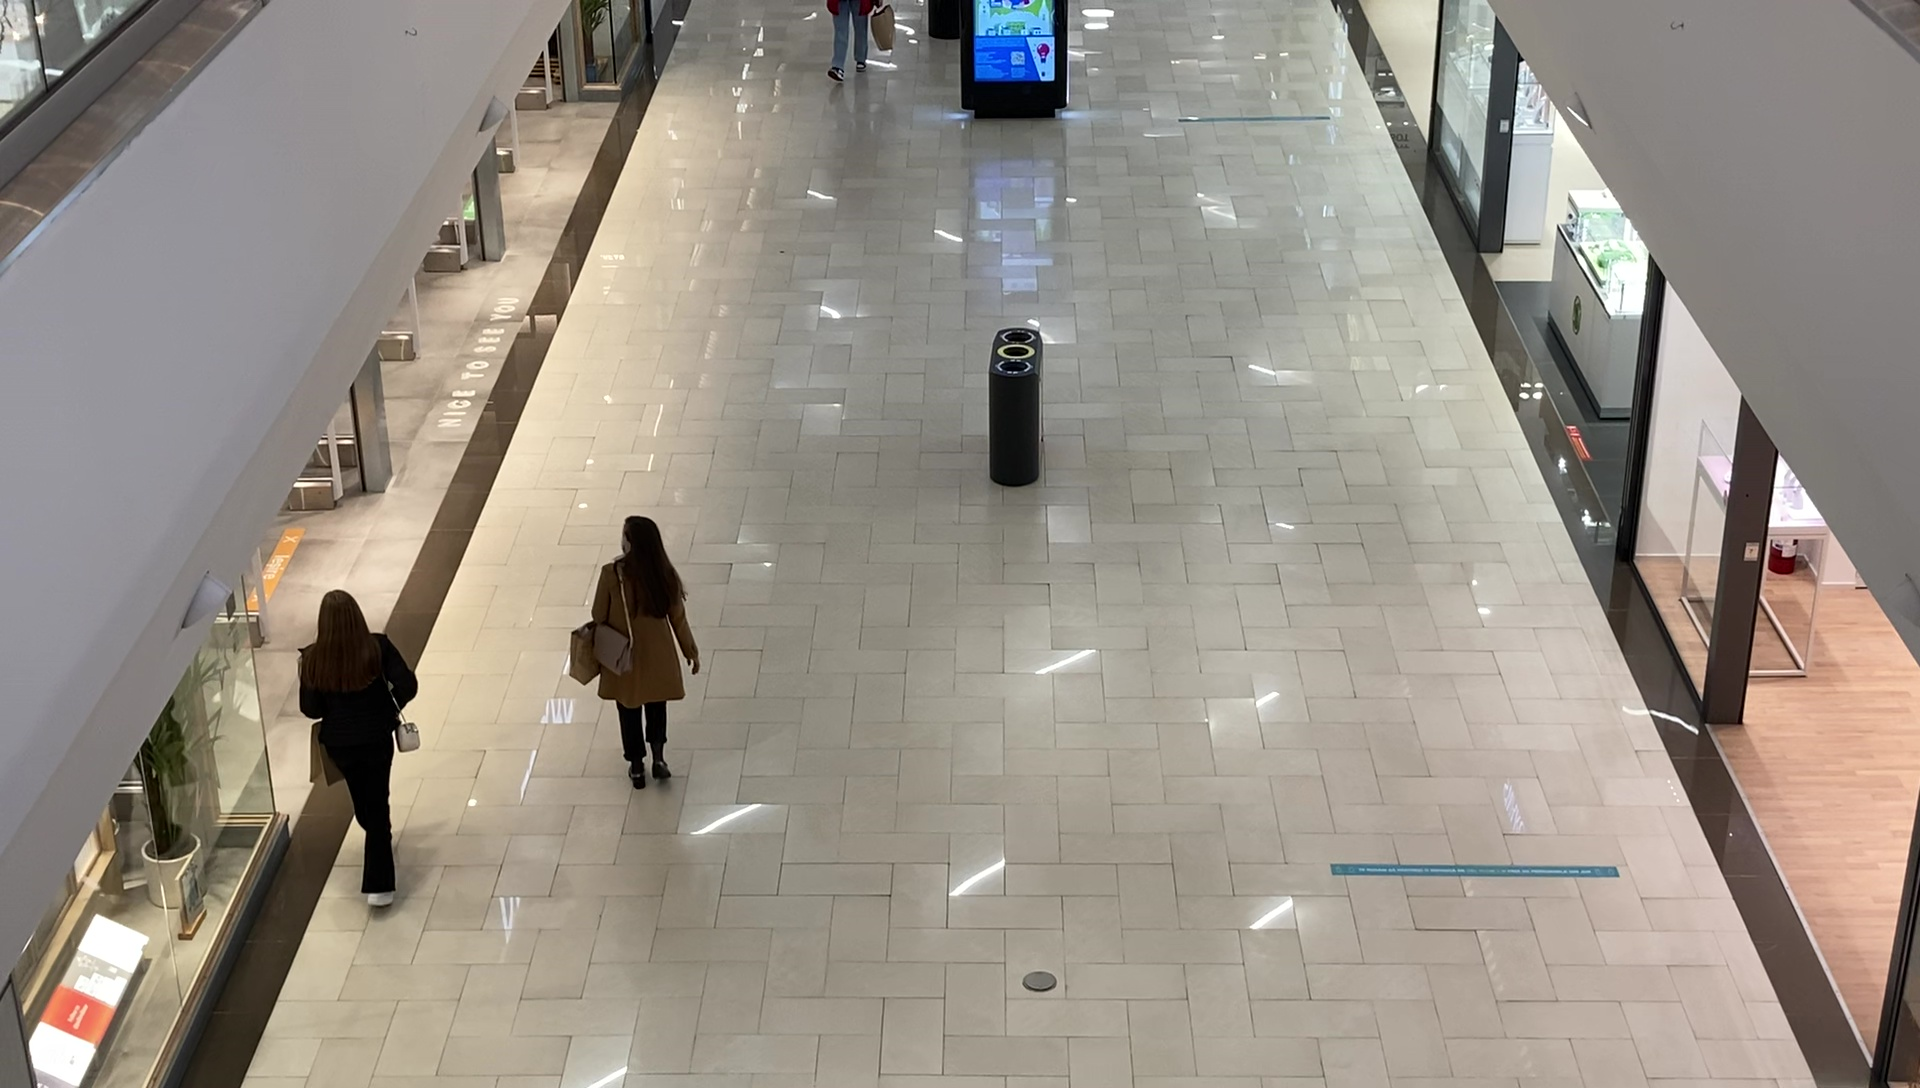person: (297, 590, 421, 906), (592, 514, 700, 790)
